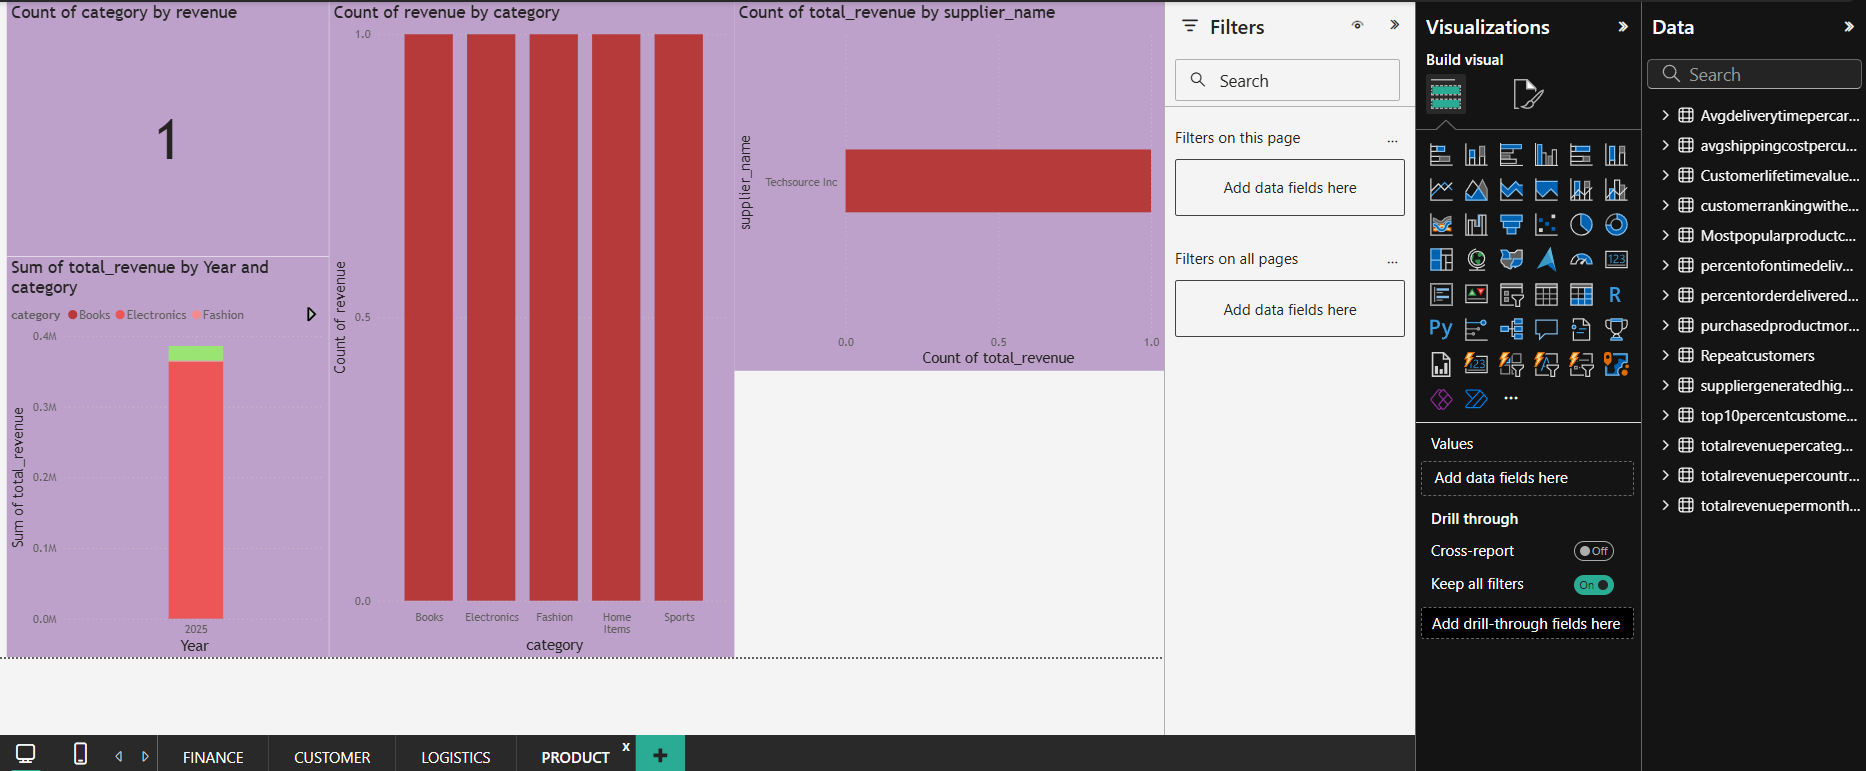

The page's visual inventory and layout, read from the dashboard file:
{"tool":"powerbi","page":{"name":"PRODUCT","canvas":[1280,720],"ordinal":3},"visuals":[{"type":"kpi","fields":{"Indicator":["CountNonNull(Mostpopularproductcategory.category)"],"TrendLine":["Mostpopularproductcategory.revenue"]},"box":[10,0,353.5,279.4],"z":0},{"type":"columnChart","fields":{"Category":["totalrevenuepercategorypermonth.month_year.Variation.Date Hierarchy.Year","totalrevenuepercategorypermonth.month_year.Variation.Date Hierarchy.Quarter","totalrevenuepercategorypermonth.month_year.Variation.Date Hierarchy.Month","totalrevenuepercategorypermonth.month_year.Variation.Date Hierarchy.Day"],"Y":["Sum(totalrevenuepercategorypermonth.total_revenue)"],"Series":["totalrevenuepercategorypermonth.category"]},"box":[10,279.4,353.5,440.4],"z":1000},{"type":"clusteredBarChart","fields":{"Category":["suppliergeneratedhighestrevenue.supplier_name"],"Y":["Count(suppliergeneratedhighestrevenue.total_revenue)"]},"box":[808.2,0,471.8,404.8],"z":2000},{"type":"clusteredColumnChart","fields":{"Y":["CountNonNull(Mostpopularproductcategory.revenue)"],"Category":["Mostpopularproductcategory.category"]},"box":[363.5,0,444.7,719.8],"z":3000}]}

Visuals, with their boxes on the page's 1280x720 design canvas (x1, y1, x2, y2). These are canvas units, not pixel positions in the 1866x771 screenshot, which may show the page scaled, cropped or inside an application window:
kpi - CountNonNull(Mostpopularproductcategory.category) x Mostpopularproductcategory.revenue: 10/0/364/279
columnChart - totalrevenuepercategorypermonth.month_year.Variation.Date Hierarchy.Year x totalrevenuepercategorypermonth.month_year.Variation.Date Hierarchy.Quarter: 10/279/364/720
clusteredBarChart - suppliergeneratedhighestrevenue.supplier_name x Count(suppliergeneratedhighestrevenue.total_revenue): 808/0/1280/405
clusteredColumnChart - CountNonNull(Mostpopularproductcategory.revenue) x Mostpopularproductcategory.category: 364/0/808/720
